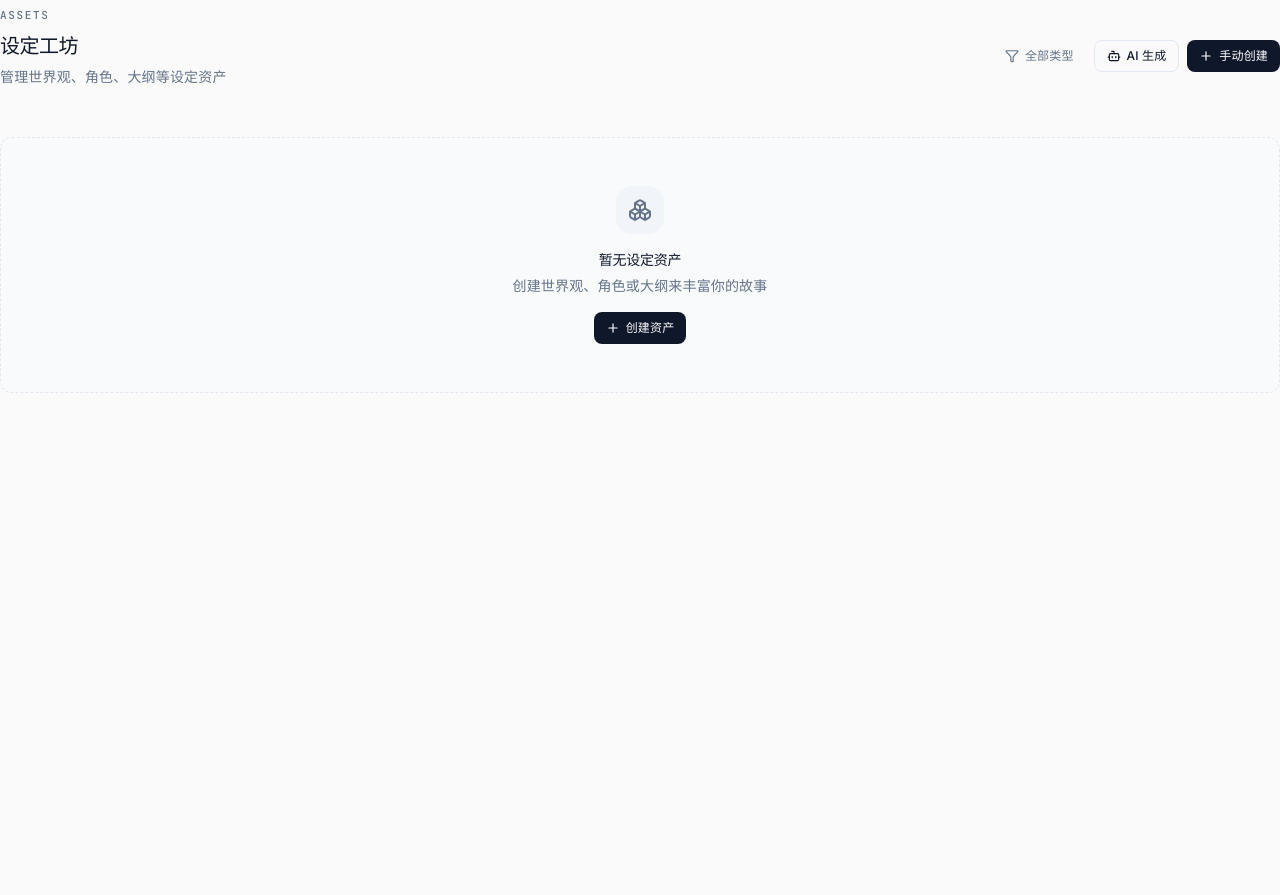
Test case: AssetsPanel › opens the asset editor only when the user clicks edit from the preview
Expected: the heading "暂无设定资产" is shown, [599,250,681,270]
Step 1. Click the button "AI 生成" → point(1136, 56), box [1094,40,1179,72]
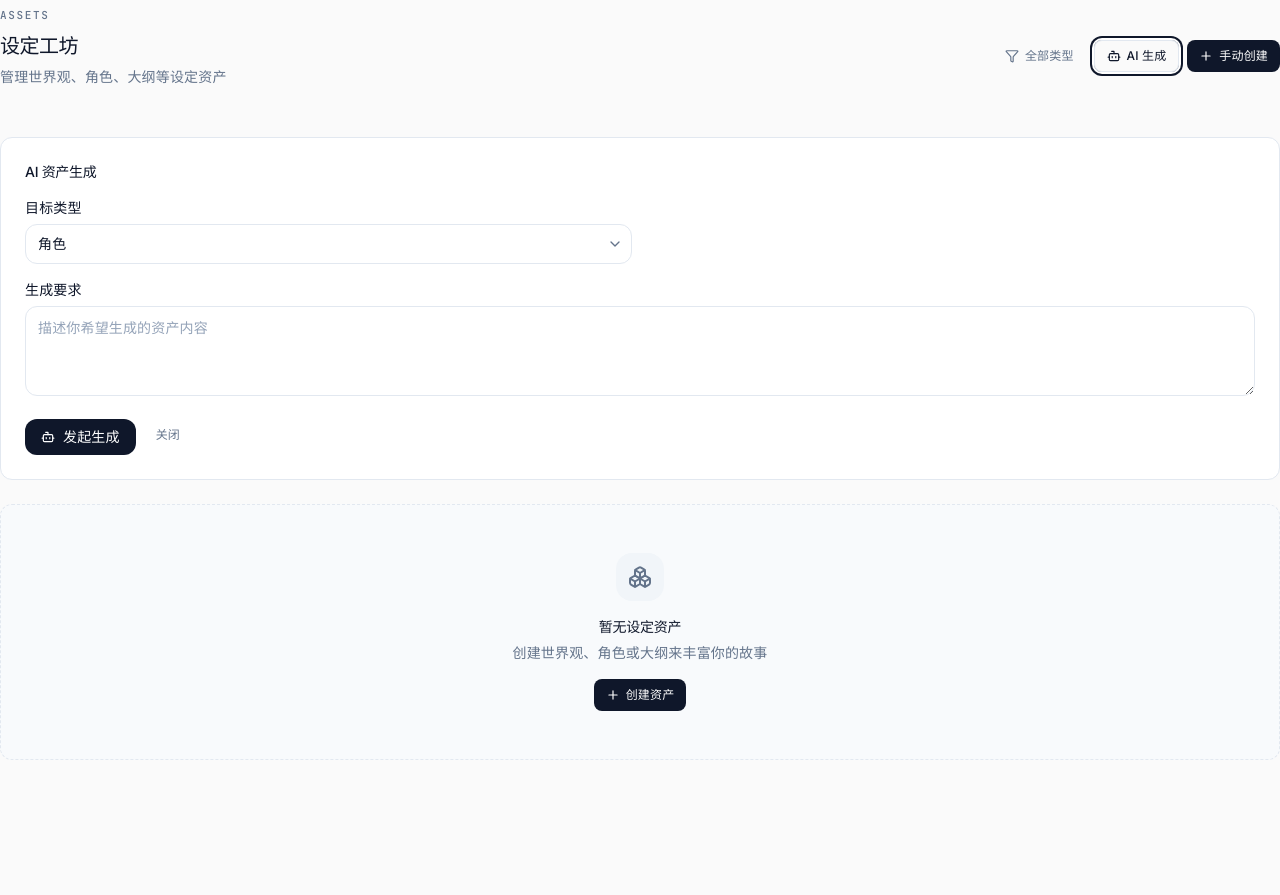
Step 2. Type "生成一个冷静的主角" into the text box with placeholder "描述你希望生成的资产内容" → point(640, 351), box [25,306,1255,396]
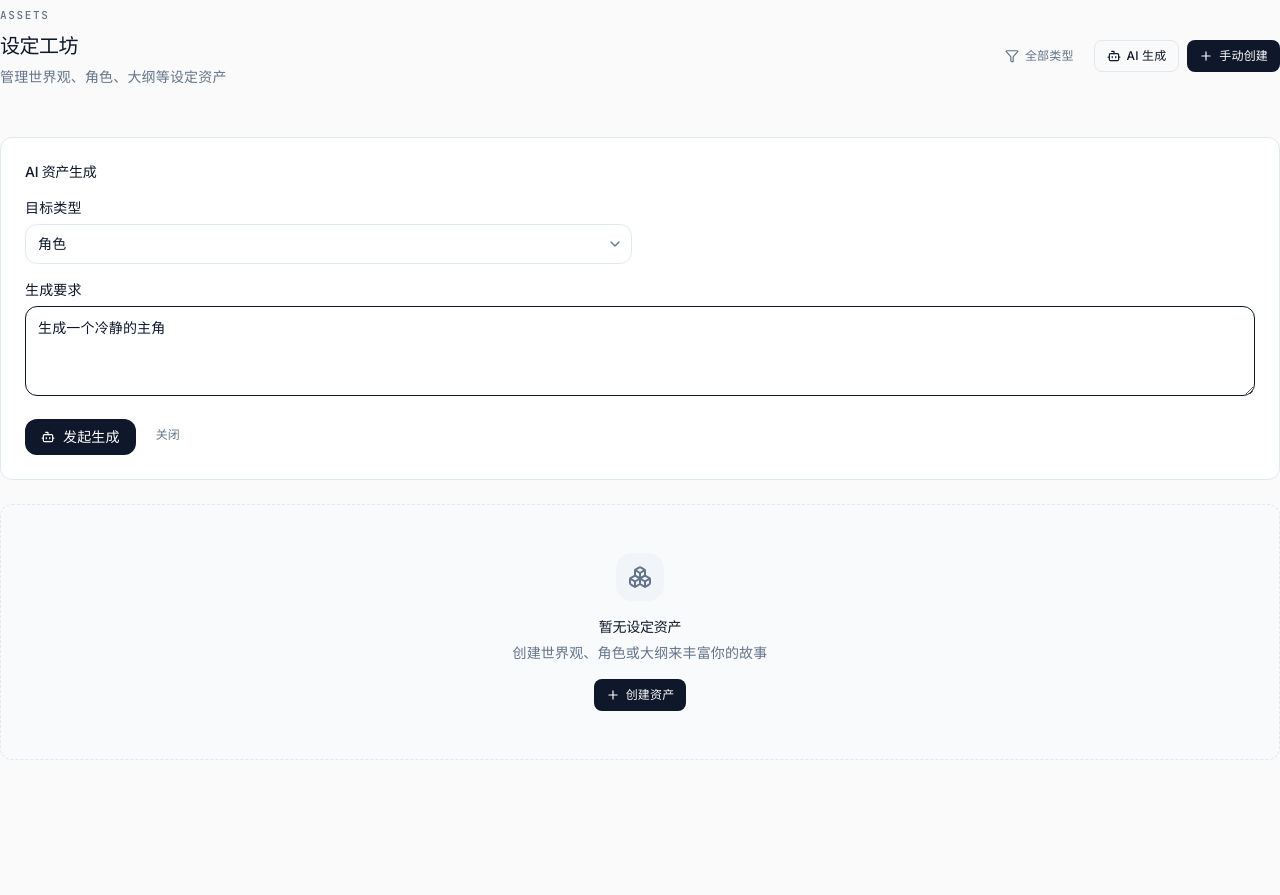
Step 3. Click the button "发起生成" → point(80, 437), box [25,419,136,455]
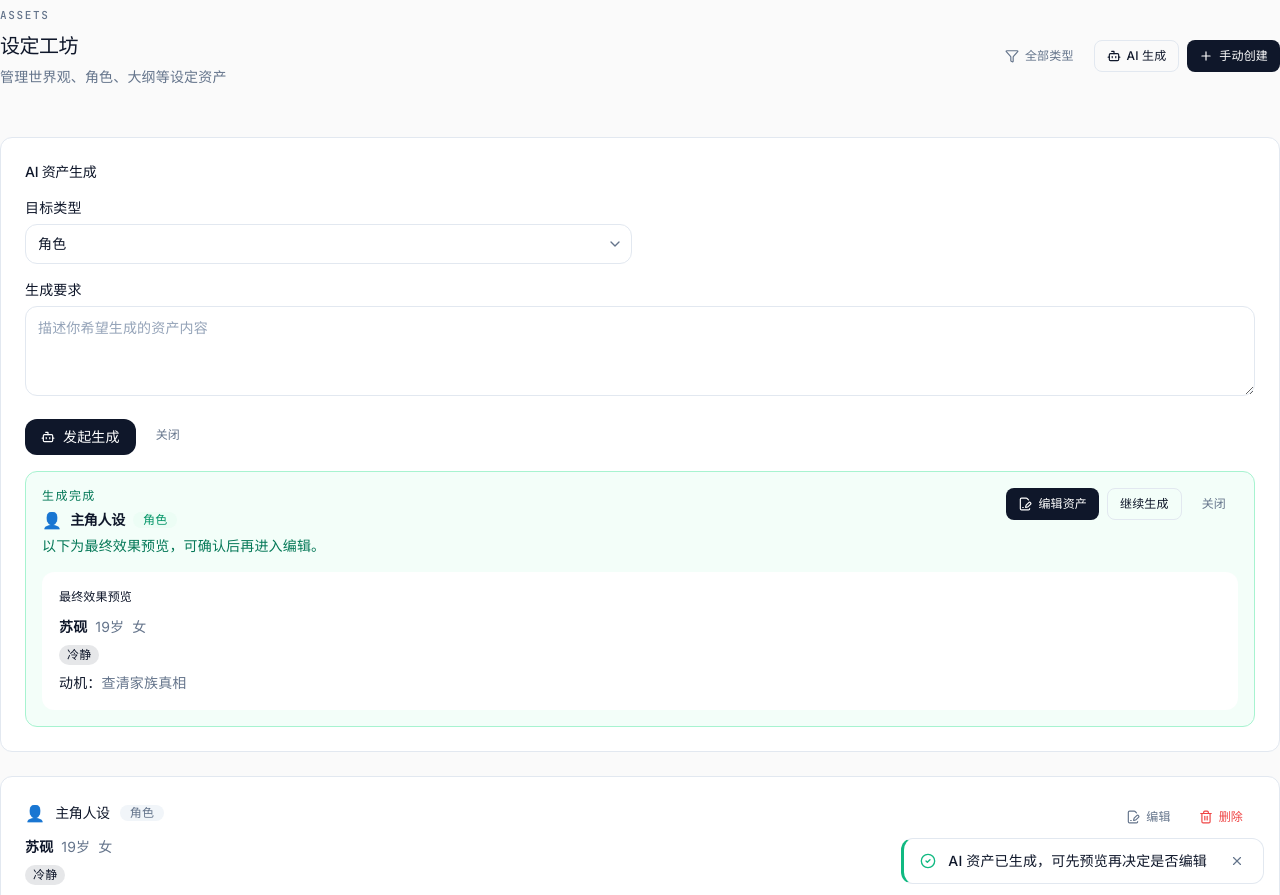
Now the button "编辑资产" is shown
Step 4. Click the button "编辑资产" → point(1053, 504), box [1006,488,1099,520]
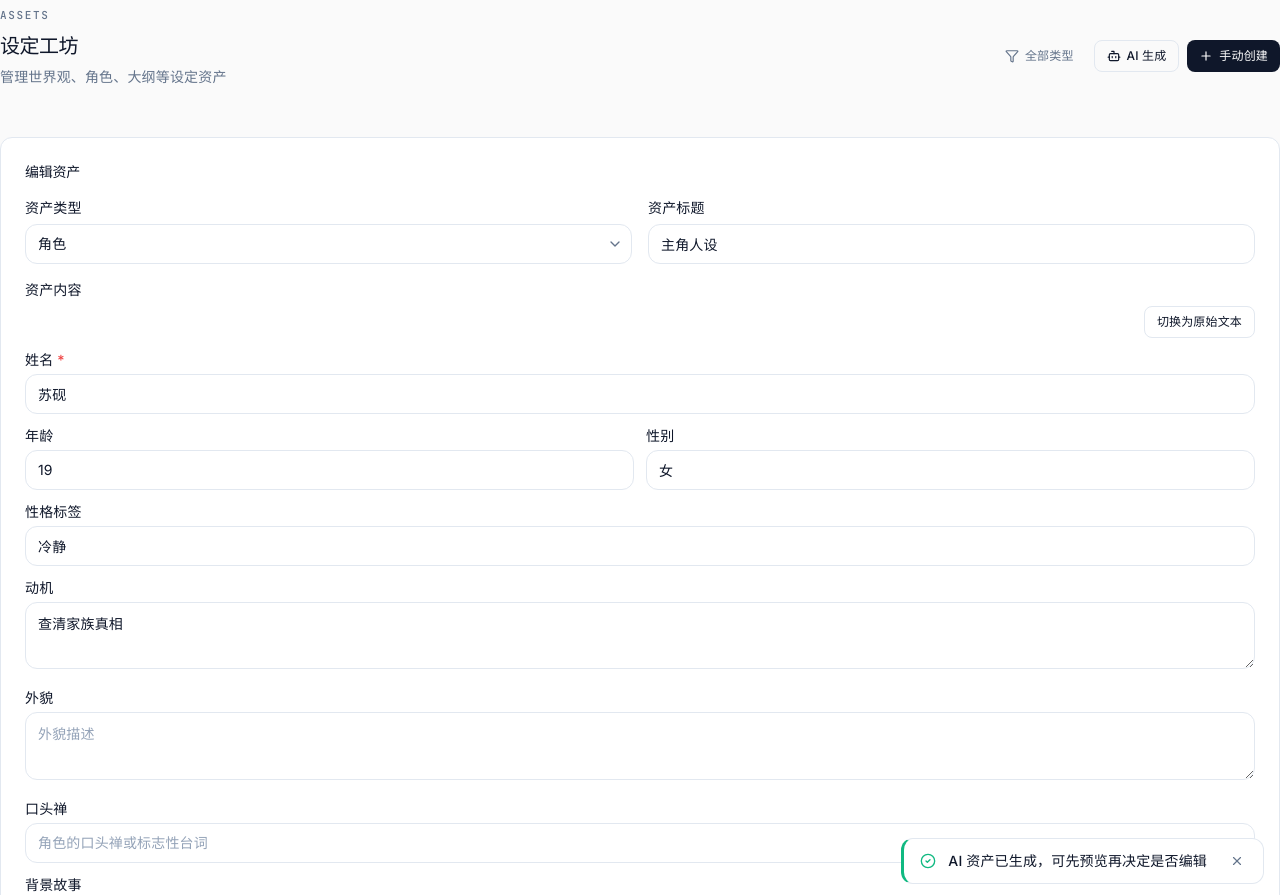
Now the heading "编辑资产" is shown, box [25,163,80,180]
Now the field showing "主角人设" below "资产标题" is shown, box [648,224,1255,264]
